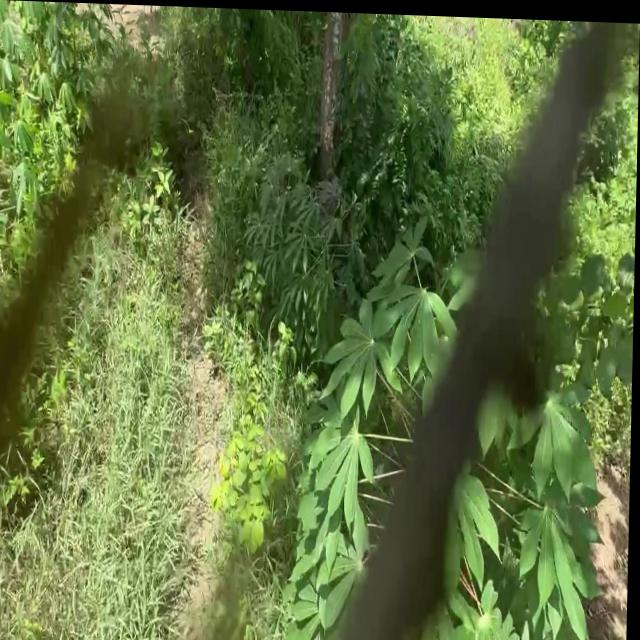Maleza: (124, 456, 311, 640), (164, 296, 288, 473), (9, 358, 160, 503), (42, 236, 203, 367), (19, 513, 136, 623), (437, 22, 534, 136), (88, 120, 180, 240), (190, 52, 272, 163)
